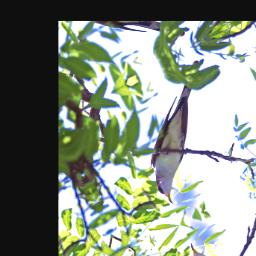Cuckoo: (117, 59, 246, 209)
